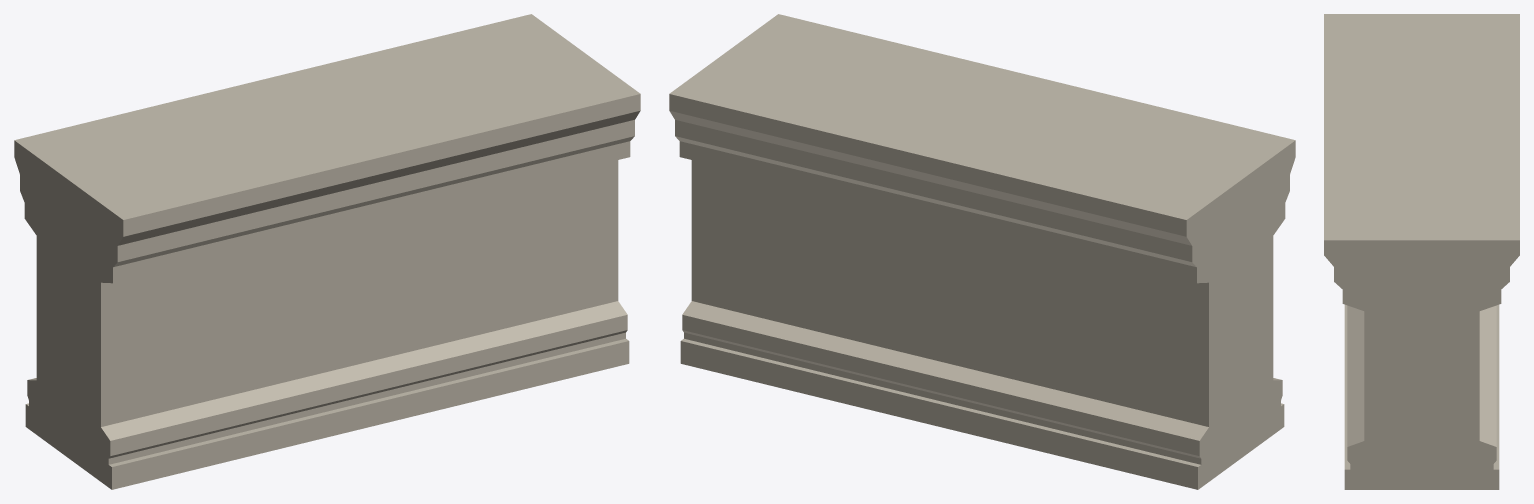
Rendered from BC_Frame_D_03.fbx.
3 renders of one model, left to right at view 1: azimuth 30°, elevation 25°; view 2: azimuth 150°, elevation 25°; view 3: azimuth 270°, elevation 25°, orthographic. The views are drawn at different scales.
Visible parts, largest first — view 1: BC_Frame_D_03; view 2: BC_Frame_D_03; view 3: BC_Frame_D_03.
Boxes of the visible parts, <box> form: BC_Frame_D_03: <box>14,14,640,489</box>; BC_Frame_D_03: <box>669,14,1295,489</box>; BC_Frame_D_03: <box>1324,14,1519,489</box>.
Size of the model in its own units: 400 by 206 by 146.
